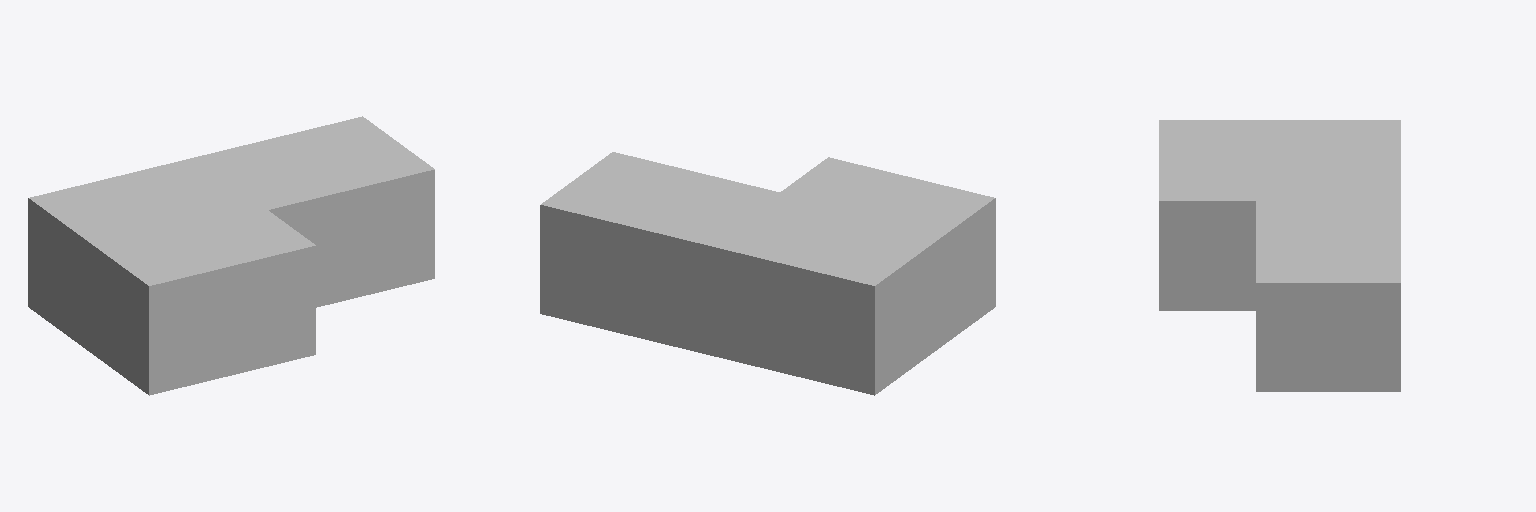
File: Map_test.obj
The picture shows the model from 3 angles: view 1: azimuth 30°, elevation 25°; view 2: azimuth 150°, elevation 25°; view 3: azimuth 270°, elevation 25°; orthographic projection.
Parts seen in each view (by area): view 1: Plane, Plane.001; view 2: Plane, Plane.001; view 3: Plane, Plane.001.
Boxes of the visible parts, x1,y1,x2,y2 form: Plane: [28, 117, 434, 394]; Plane.001: [28, 116, 434, 395]; Plane: [540, 152, 995, 395]; Plane.001: [540, 153, 995, 394]; Plane: [1159, 120, 1400, 391]; Plane.001: [1159, 120, 1400, 391].
Size of the model in its own units: 16 by 5 by 10.